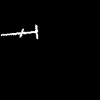double_crochet: (1, 25, 37, 38)
